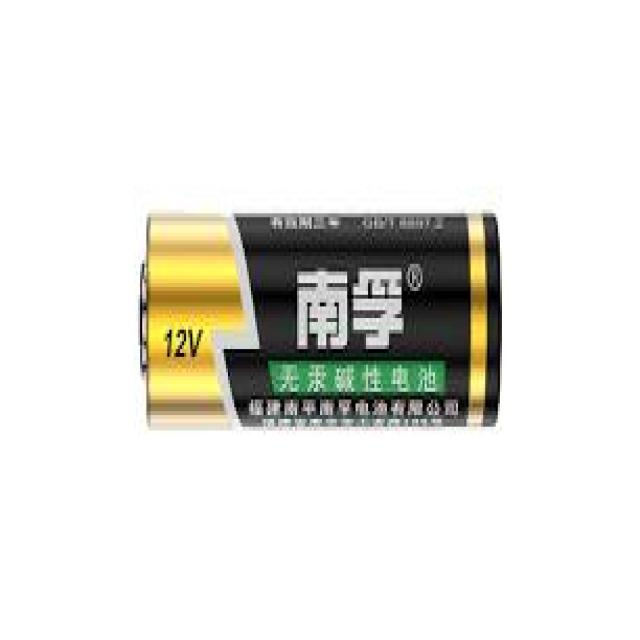AA: (138, 206, 502, 427)
